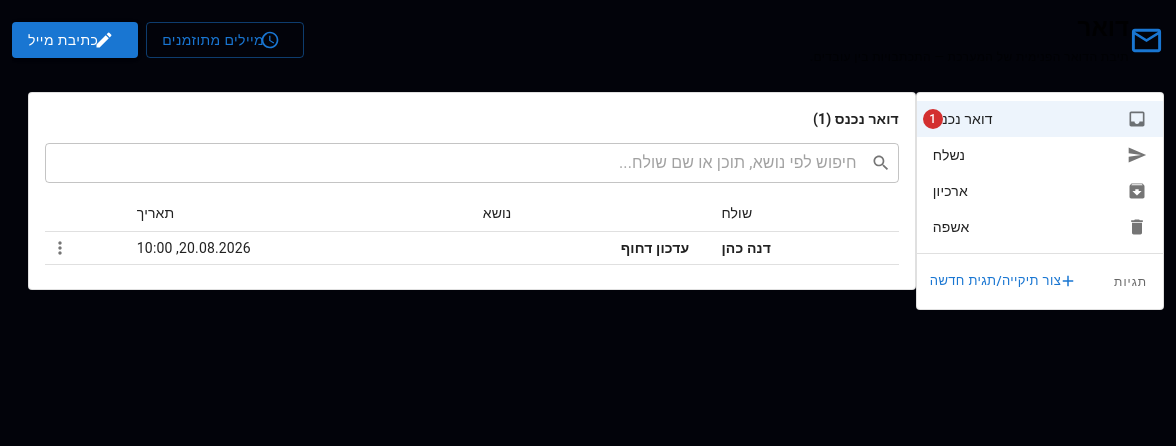
Test: Emails › read receipts › does not show the icon on a message the current user received rather than sent
Click the row with test id "email-row-10" at (472, 248), box left=45, top=232, right=899, bottom=264
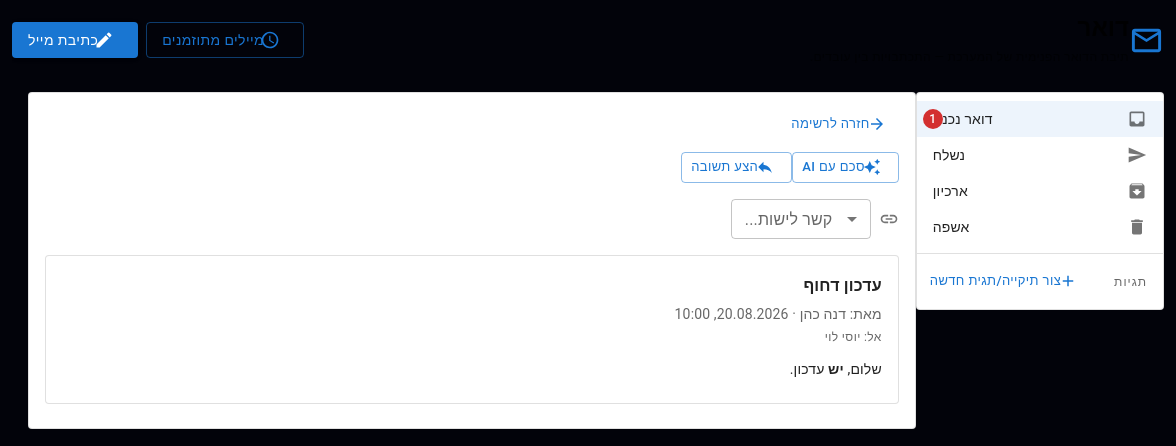
Check: the button "סכם עם AI" is shown, box left=792, top=152, right=899, bottom=183
